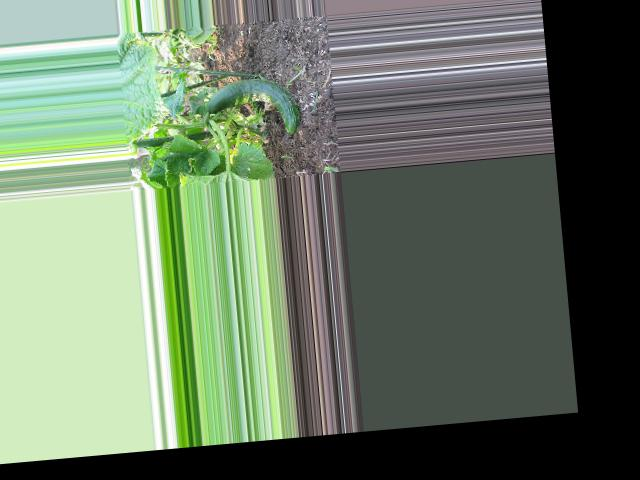cucumber: (203, 74, 301, 141)
